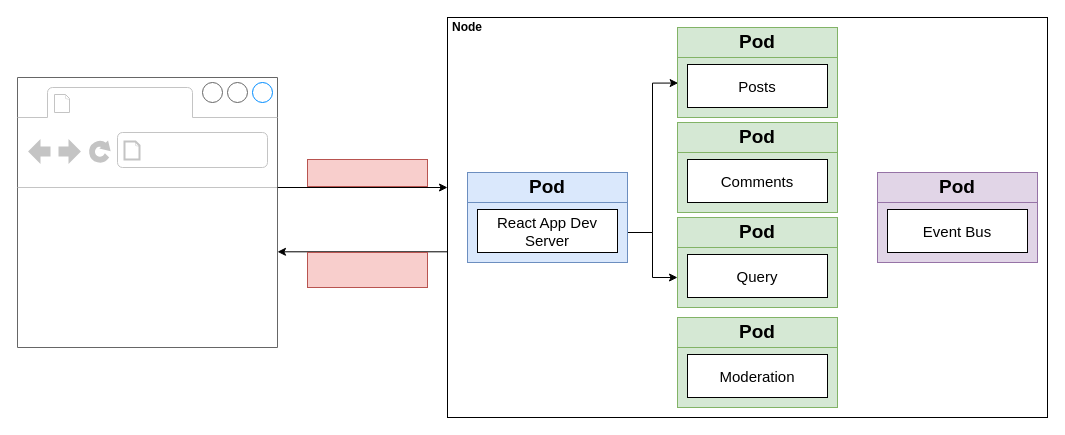
The diagram is 1065 pixels wide and 435 high, and some of its shapes have lost their labels. Here are the shapes that lost their labels. From the top down, the box of each, then its label:
(76, 88, 188, 116): Page 1
(306, 158, 428, 186): Navigate to app
(306, 252, 428, 288): React Apps HTML + JS + CSS
